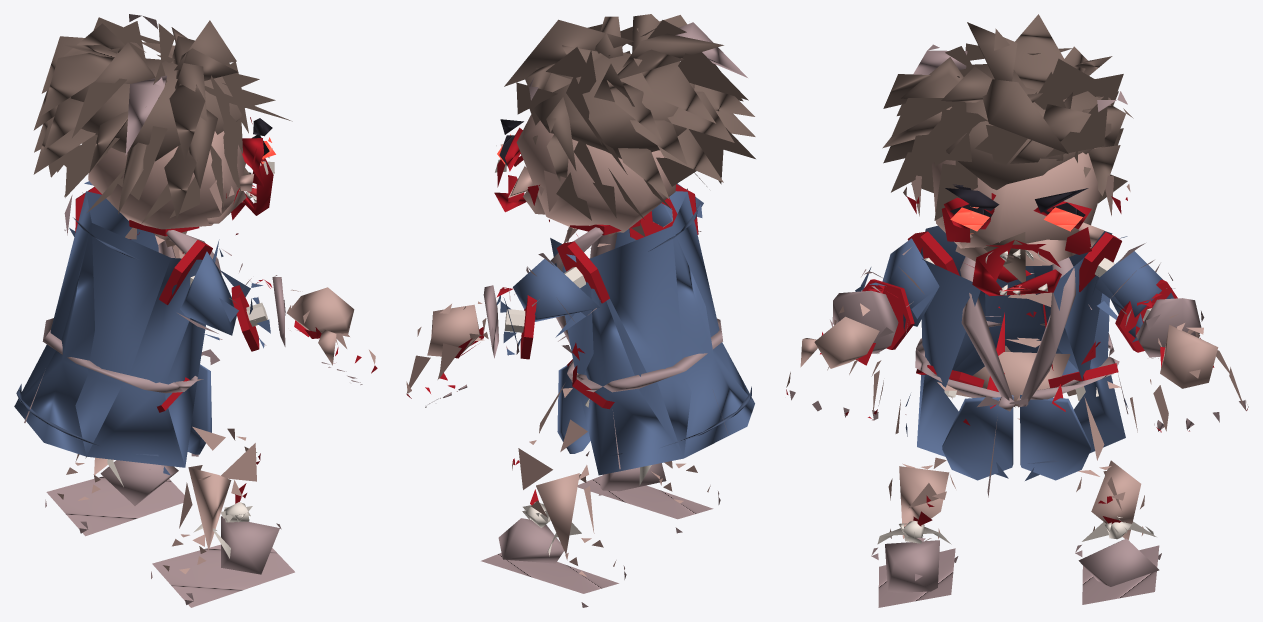
The picture shows the model from 3 angles, left to right: view 1: azimuth 30°, elevation 25°; view 2: azimuth 150°, elevation 25°; view 3: azimuth 270°, elevation 25°; orthographic projection. The views are drawn at different scales.
Visible parts, largest first — view 1: head, torso, footR, footL, shinR, armR, handR, stump_foreArmR, stump_armR, foreArmR; view 2: head, torso, footL, footR, armL, shinL, handL, stump_armL, foreArmL, stump_foreArmL, stump_armR, legL (+1 smaller); view 3: head, torso, footR, footL, handL, handR, armL, foreArmL, armR, foreArmR, shinR, shinL (+7 smaller).
Part boxes in pixels (bbox=[...]): head: bbox=[33, 14, 292, 244]; torso: bbox=[14, 191, 223, 475]; footR: bbox=[151, 502, 294, 607]; footL: bbox=[45, 456, 184, 536]; shinR: bbox=[179, 436, 260, 550]; armR: bbox=[172, 249, 251, 340]; handR: bbox=[288, 287, 377, 384]; stump_foreArmR: bbox=[231, 285, 267, 351]; stump_armR: bbox=[159, 240, 212, 304]; foreArmR: bbox=[249, 275, 309, 348]; head: bbox=[494, 14, 755, 246]; torso: bbox=[550, 191, 754, 475]; footL: bbox=[481, 502, 626, 607]; footR: bbox=[577, 451, 720, 533]; armL: bbox=[513, 253, 600, 341]; shinL: bbox=[512, 440, 594, 554]; handL: bbox=[406, 304, 483, 407]; stump_armL: bbox=[556, 241, 609, 303]; foreArmL: bbox=[463, 285, 521, 358]; stump_foreArmL: bbox=[504, 295, 536, 359]; stump_armR: bbox=[629, 184, 698, 239]; legL: bbox=[539, 384, 588, 479]; head: bbox=[882, 14, 1133, 308]; torso: bbox=[905, 225, 1128, 497]; footR: bbox=[871, 521, 958, 607]; footL: bbox=[1075, 516, 1161, 604]; handL: bbox=[1150, 325, 1248, 432]; handR: bbox=[786, 316, 883, 420]; armL: bbox=[1088, 236, 1172, 319]; foreArmL: bbox=[1125, 288, 1204, 358]; armR: bbox=[861, 238, 939, 326]; foreArmR: bbox=[830, 282, 907, 353]; shinR: bbox=[888, 465, 955, 540]; shinL: bbox=[1076, 460, 1144, 539].
Bounding box in the file's own units: 0.8793 × 1.8 × 1.41.
